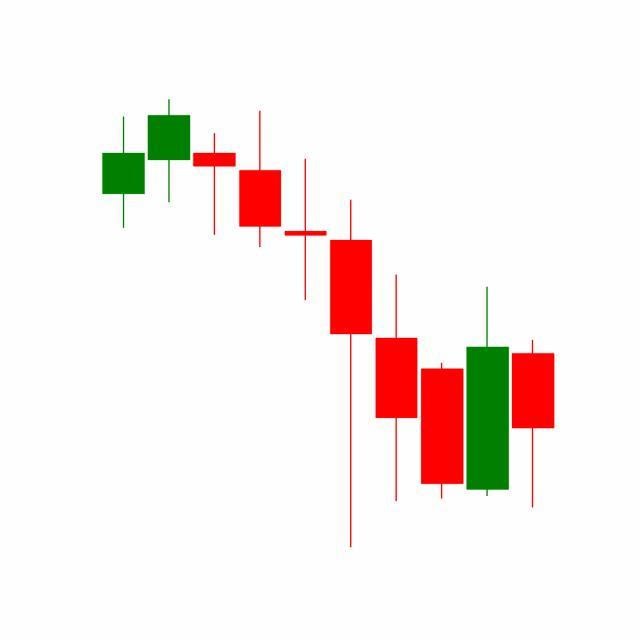Hikkake Pattern: (283, 155, 512, 549)
